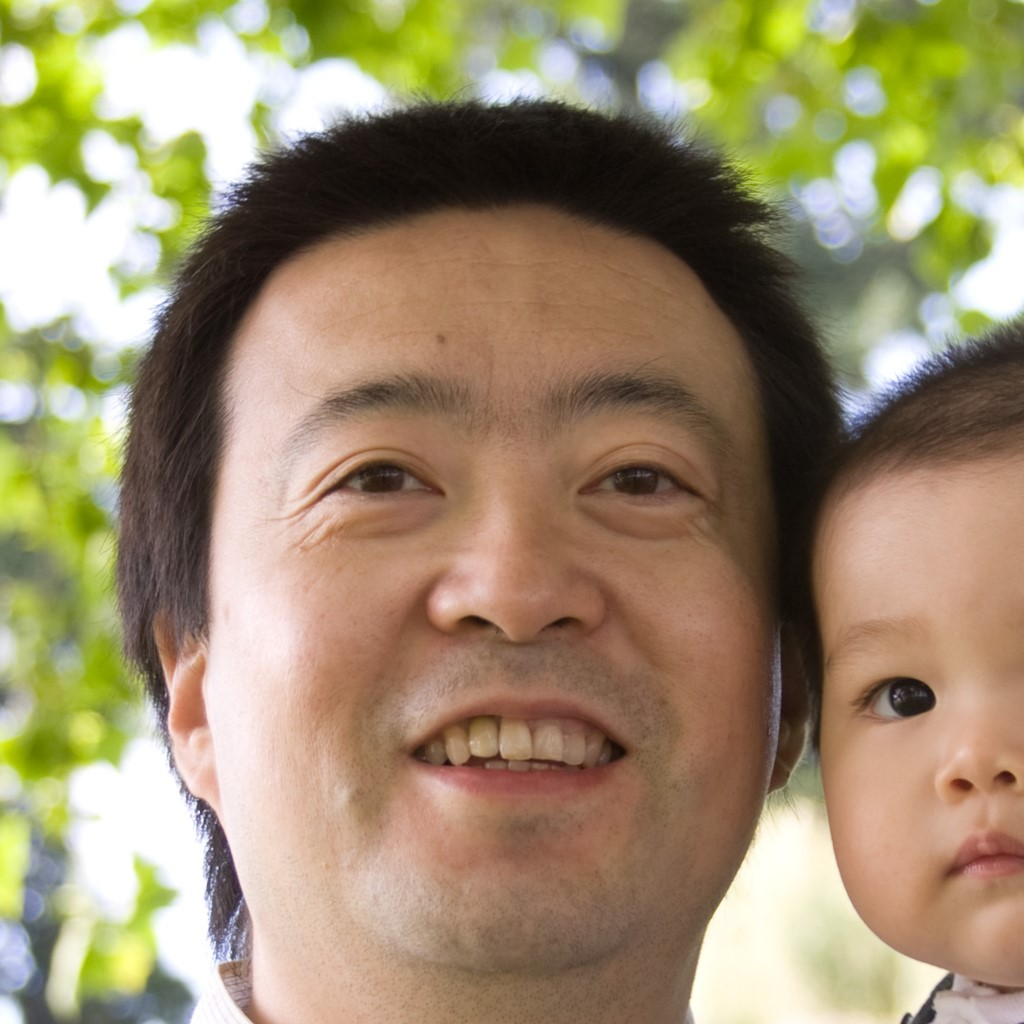sin_mascara: (174, 175, 789, 967)
